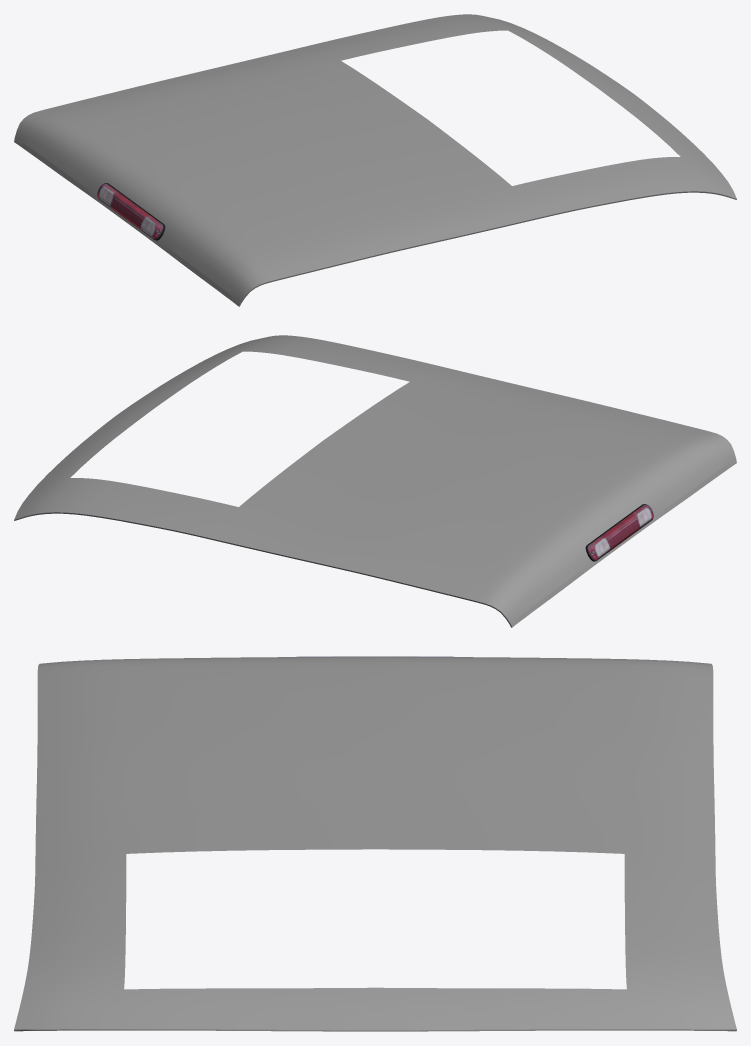
3 renders of one model, top to bottom at view 1: azimuth 30°, elevation 25°; view 2: azimuth 150°, elevation 25°; view 3: azimuth 270°, elevation 25°, orthographic. The views are drawn at different scales.
Visible parts, largest first — view 1: U803_3A_341B_C_U803_3A_341B_C_1_DaS, U803_3A_341B_C_2_N_U803_3A_341B_C, U803_3A_341B_C_U803_3A_341B_C_3_DTaSI, U803_3A_341B_C_U803_3A_341B_C_1_DaS_E; view 2: U803_3A_341B_C_U803_3A_341B_C_1_DaS, U803_3A_341B_C_2_N_U803_3A_341B_C, U803_3A_341B_C_U803_3A_341B_C_3_DTaSI, U803_3A_341B_C_U803_3A_341B_C_1_DaS_E; view 3: U803_3A_341B_C_U803_3A_341B_C_1_DaS, U803_3A_341B_C_U803_3A_341B_C_1_DaS_E.
Part boxes in pixels (box(x1,y1,x2,y2)): U803_3A_341B_C_U803_3A_341B_C_1_DaS: box(14, 14, 736, 306); U803_3A_341B_C_2_N_U803_3A_341B_C: box(97, 183, 165, 240); U803_3A_341B_C_U803_3A_341B_C_3_DTaSI: box(97, 183, 162, 239); U803_3A_341B_C_U803_3A_341B_C_1_DaS_E: box(238, 191, 736, 306); U803_3A_341B_C_U803_3A_341B_C_1_DaS: box(14, 335, 736, 627); U803_3A_341B_C_2_N_U803_3A_341B_C: box(585, 504, 653, 561); U803_3A_341B_C_U803_3A_341B_C_3_DTaSI: box(588, 504, 653, 560); U803_3A_341B_C_U803_3A_341B_C_1_DaS_E: box(14, 512, 512, 627); U803_3A_341B_C_U803_3A_341B_C_1_DaS: box(14, 656, 736, 1030); U803_3A_341B_C_U803_3A_341B_C_1_DaS_E: box(14, 1029, 736, 1031).
Size of the model in its own units: 134 by 9.11 by 113.
